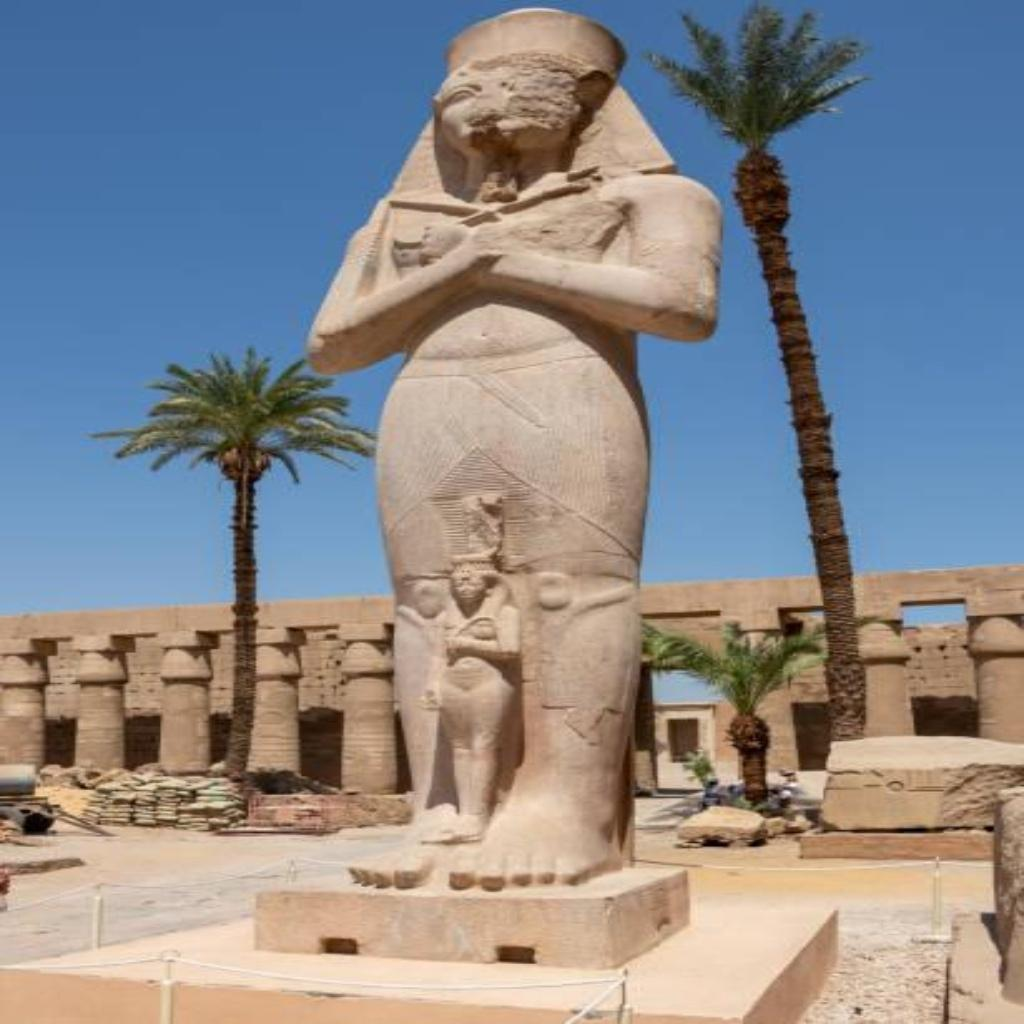Standing Statue of King Ramses II: (299, 6, 728, 894)
